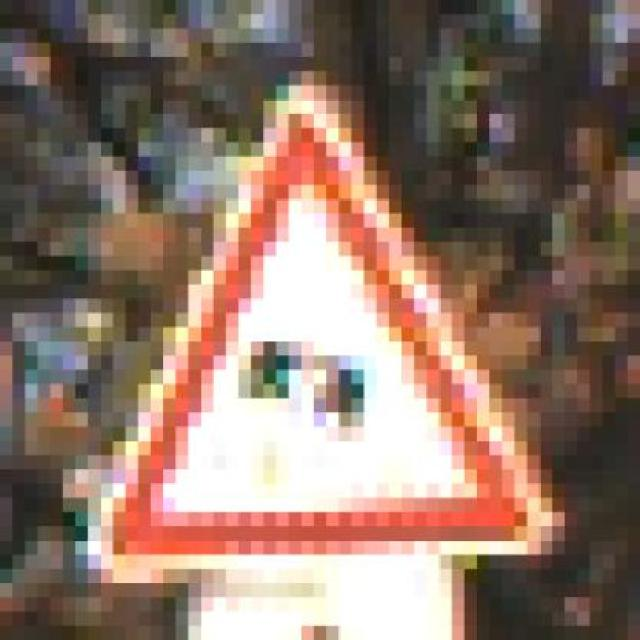Slippery Road Ahead: (80, 70, 569, 596)
